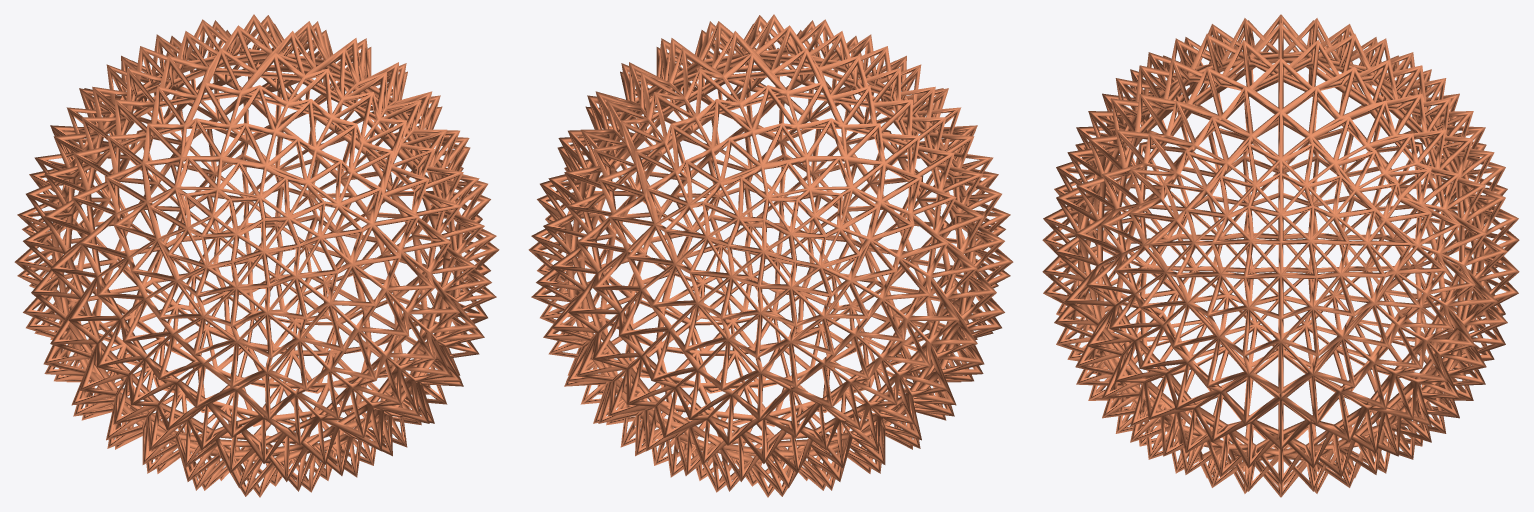
File: hober2.glb
The picture shows the model from 3 angles, left to right: view 1: azimuth 30°, elevation 25°; view 2: azimuth 150°, elevation 25°; view 3: azimuth 270°, elevation 25°; orthographic projection.
Visible parts, largest first — view 1: Cube; view 2: Cube; view 3: Cube.
Part boxes in pixels (x1,y1,x2,y2): Cube: [14, 14, 499, 497]; Cube: [528, 14, 1013, 497]; Cube: [1042, 14, 1519, 497].
Bounding box in the file's own units: 61.24 × 61.24 × 61.24.
